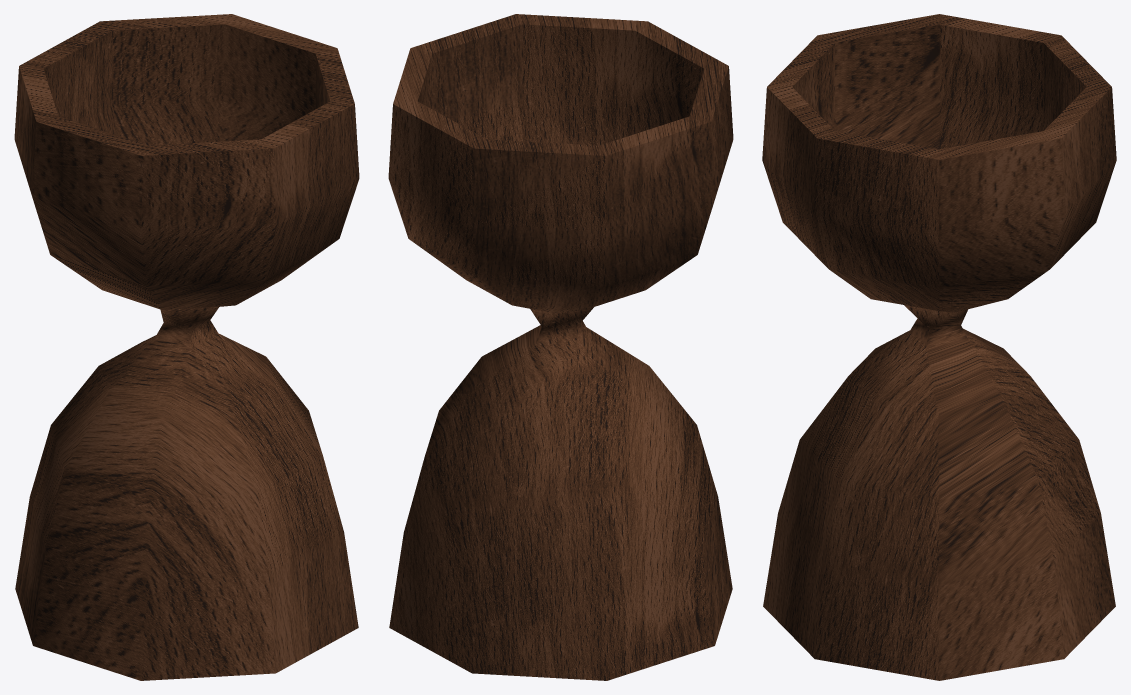
The model's file is prop_030.fbx.
The picture shows the model from 3 angles, left to right: view 1: azimuth 30°, elevation 25°; view 2: azimuth 150°, elevation 25°; view 3: azimuth 270°, elevation 25°; orthographic projection.
Visible parts, largest first — view 1: prop_030; view 2: prop_030; view 3: prop_030.
Boxes of the visible parts, box(x1,y1,x2,y2) form: prop_030: box(14, 14, 359, 680); prop_030: box(388, 14, 733, 680); prop_030: box(762, 14, 1116, 680).
Bounding box in the file's own units: 18.06 × 18.06 × 29.2.
